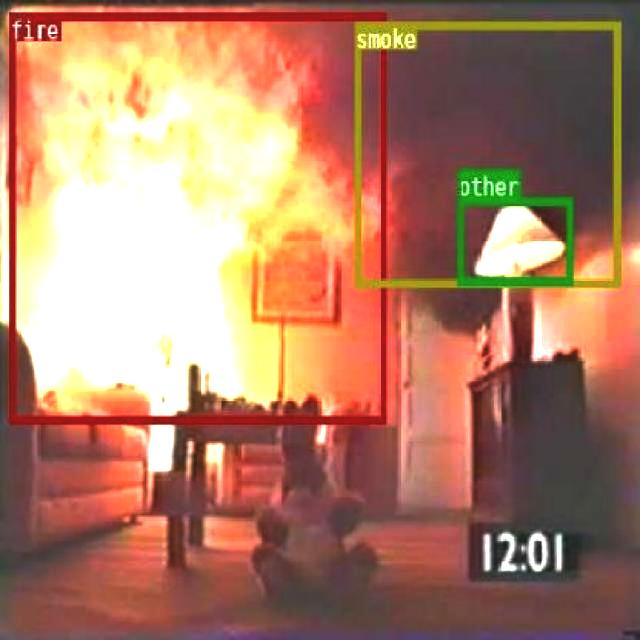fire: (8, 11, 386, 423)
smoke: (354, 19, 618, 286)
